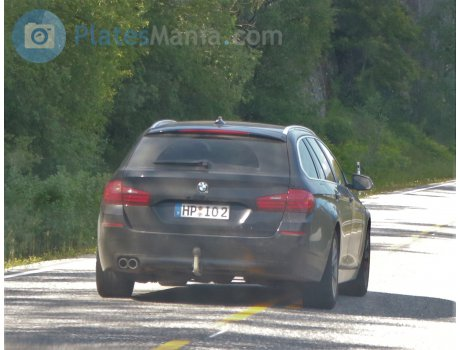License Plates: (179, 206, 225, 213)
